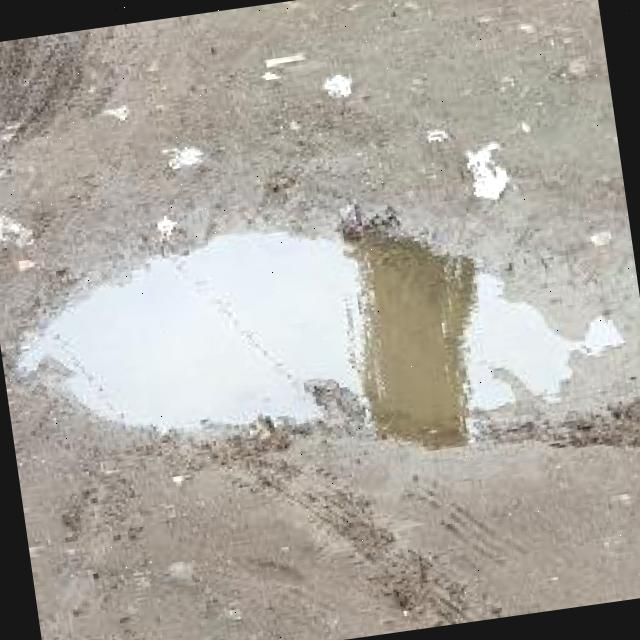stagnation: (5, 172, 640, 496)
